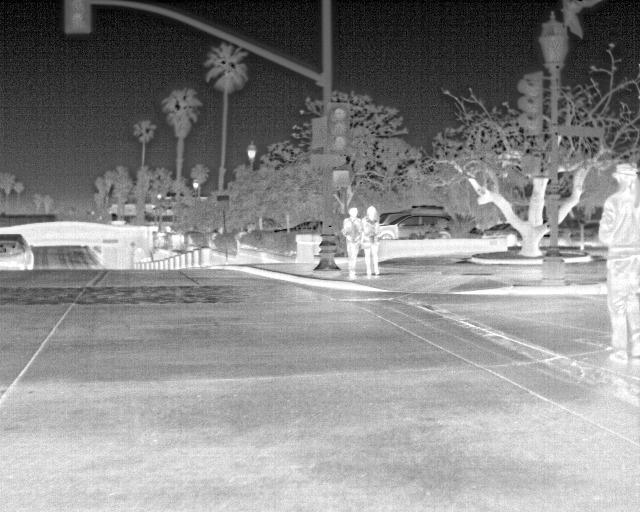bicycle: (378, 211, 452, 240), (0, 234, 36, 273), (479, 223, 519, 246), (275, 218, 323, 232)
empty: (597, 162, 637, 358), (340, 205, 363, 279), (360, 205, 381, 276)
